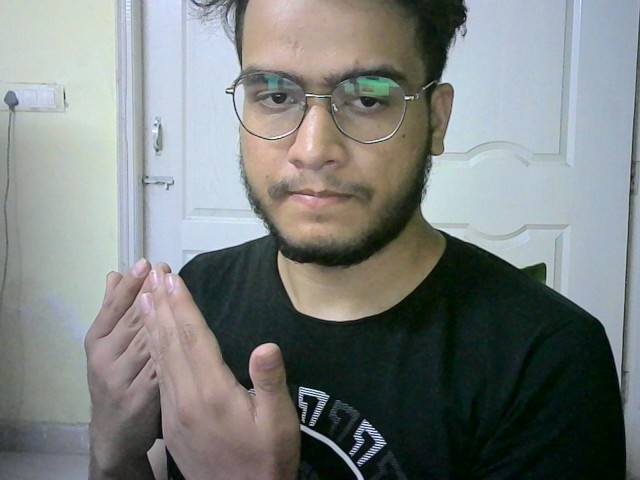Thank You: (81, 255, 308, 476)
